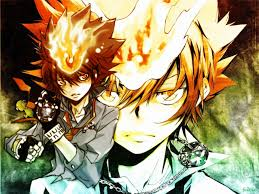Tsuna: (118, 18, 214, 156), (38, 17, 117, 106)
